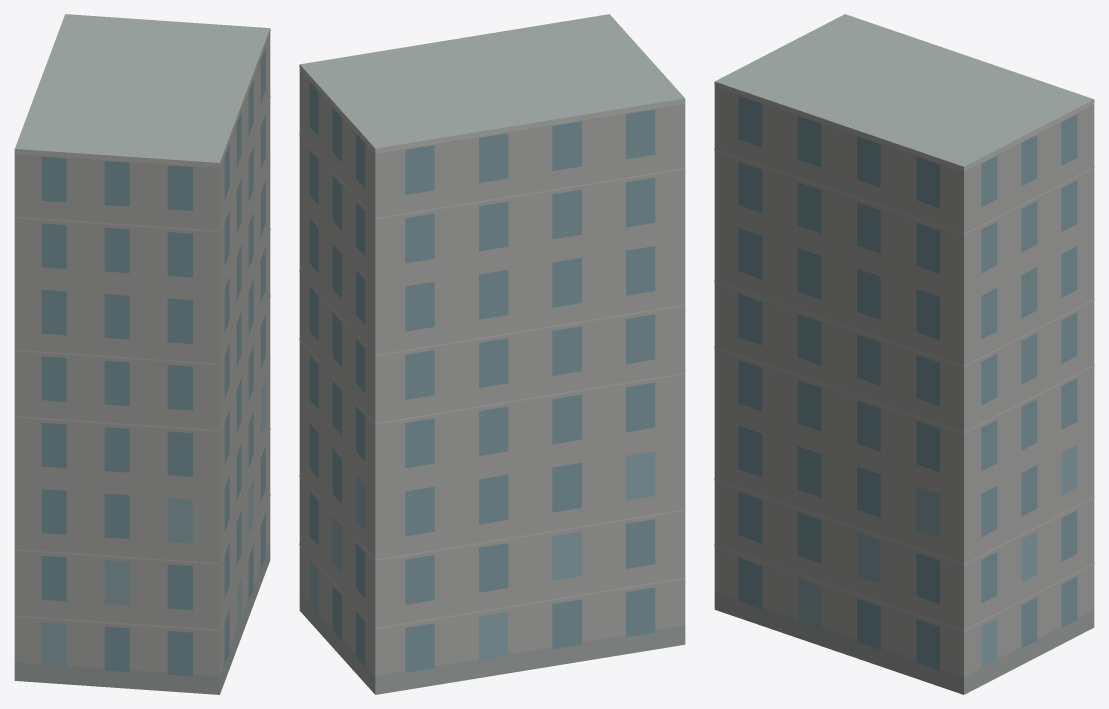
The model's file is survey-upis-32925192.glb.
3 views of the same model, side by side, from view 1: azimuth 30°, elevation 25°; view 2: azimuth 150°, elevation 25°; view 3: azimuth 270°, elevation 25° (orthographic). The views are drawn at different scales.
Parts seen in each view (by area): view 1: survey-upis-32925192.tmp; view 2: survey-upis-32925192.tmp; view 3: survey-upis-32925192.tmp.
Boxes of the visible parts, x1,y1,x2,y2 form: survey-upis-32925192.tmp: [14, 14, 270, 694]; survey-upis-32925192.tmp: [299, 14, 685, 694]; survey-upis-32925192.tmp: [714, 14, 1094, 694].
Size of the model in its own units: 15.84 by 25.5 by 16.64.
